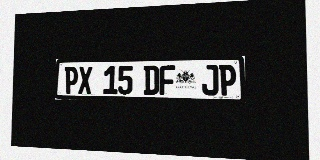1: (103, 66, 118, 94)
5: (118, 66, 133, 94)
D: (143, 65, 159, 95)
F: (159, 65, 175, 95)
J: (202, 65, 218, 95)
P: (219, 64, 236, 96), (64, 66, 78, 94)
X: (78, 66, 92, 94)
